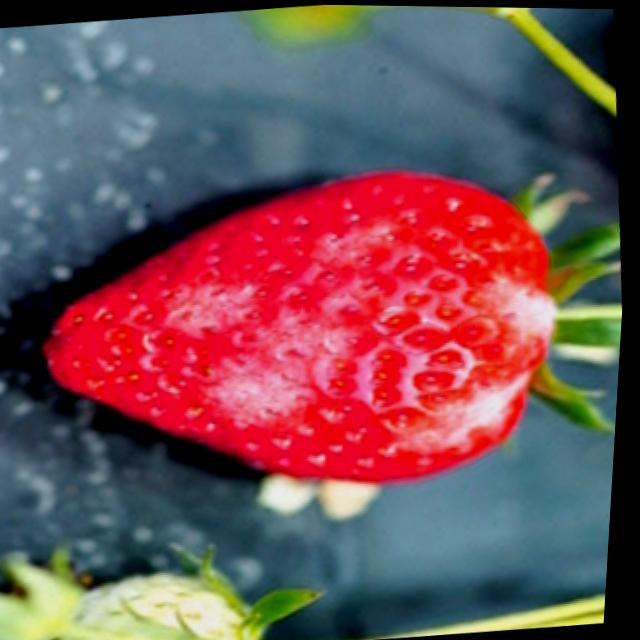Powdery Mildew Fruit: (48, 167, 561, 482)
